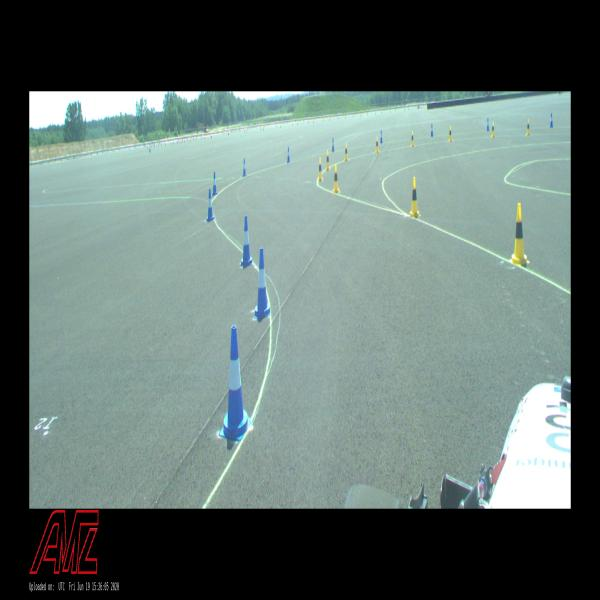blue_cone: (220, 326, 252, 441), (255, 248, 270, 318), (241, 216, 252, 266), (207, 189, 214, 222), (212, 172, 218, 195), (242, 158, 246, 177), (550, 113, 554, 127), (486, 117, 490, 131), (287, 147, 290, 162), (380, 130, 383, 143), (430, 124, 433, 136), (332, 137, 334, 153)
yellow_cone: (510, 203, 530, 265), (410, 178, 419, 218), (332, 164, 340, 192), (318, 158, 323, 180), (325, 149, 330, 171), (344, 142, 348, 161), (526, 118, 530, 136), (375, 136, 379, 153), (410, 130, 414, 147), (491, 121, 495, 138), (449, 126, 452, 142)
